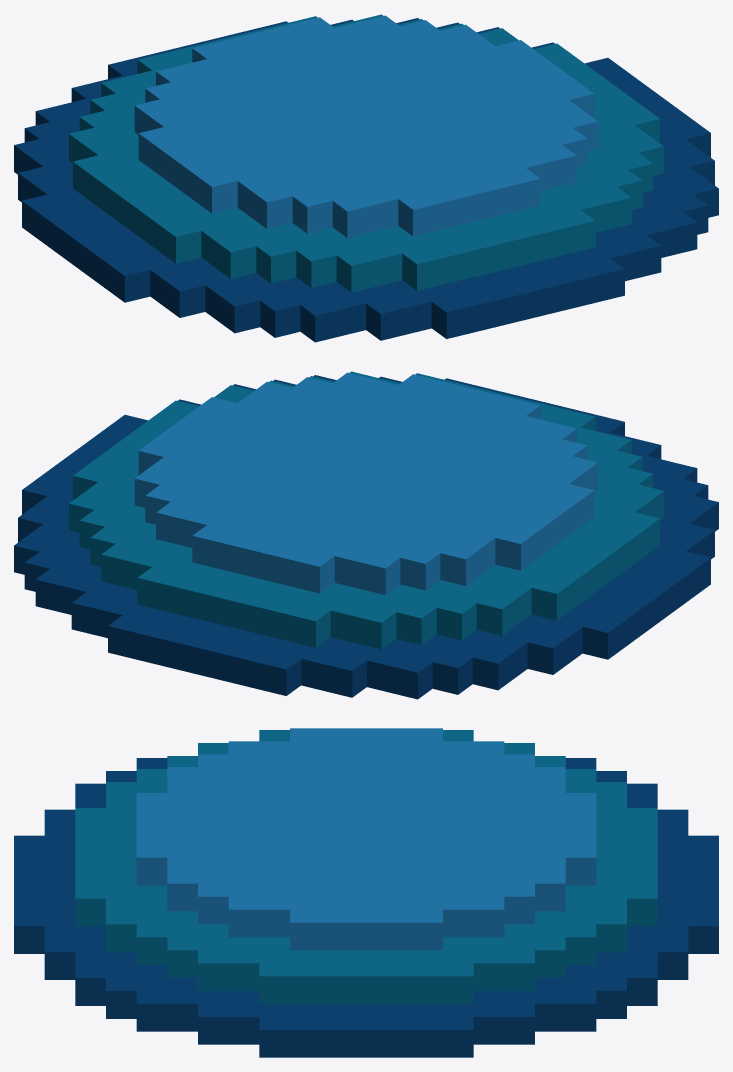
The model's file is PruebaMagnet.fbx.
3 renders of one model, top to bottom at view 1: azimuth 30°, elevation 25°; view 2: azimuth 150°, elevation 25°; view 3: azimuth 270°, elevation 25°, orthographic. The views are drawn at different scales.
Parts seen in each view (by area): view 1: Magneto mejora; view 2: Magneto mejora; view 3: Magneto mejora.
Part boxes in pixels (x1,y1,x2,y2): Magneto mejora: (14, 14, 718, 342); Magneto mejora: (14, 371, 718, 699); Magneto mejora: (14, 728, 718, 1057).
Size of the model in its own units: 230 by 30 by 230.
